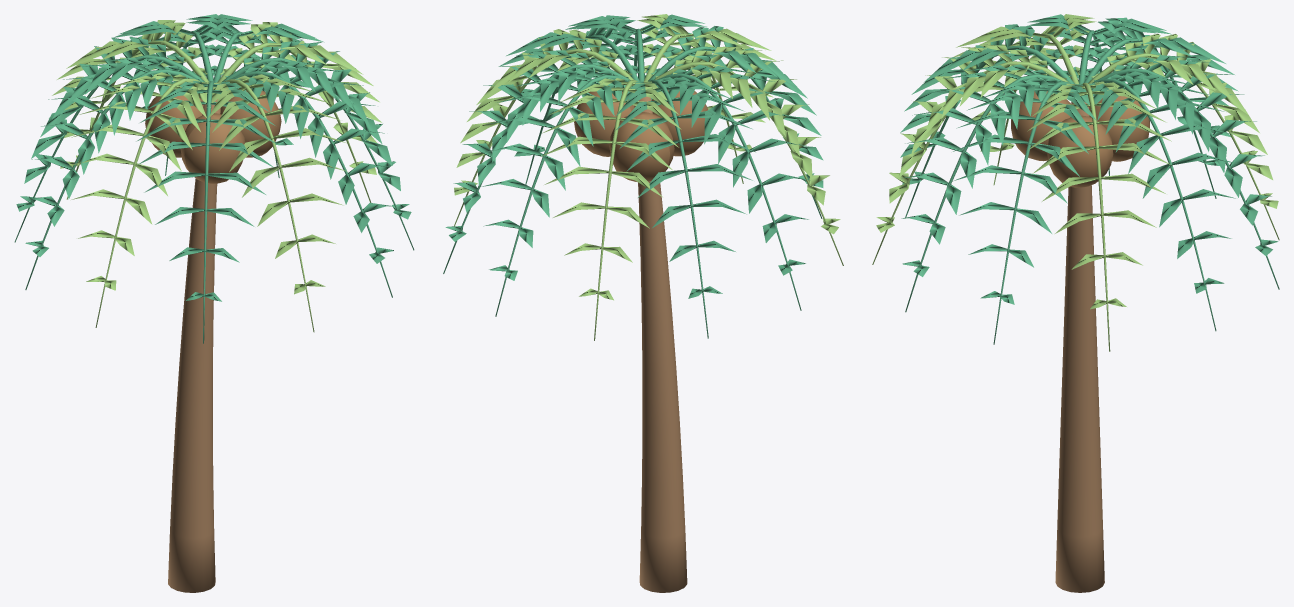
Rendered from palm_young.glb.
3 views of the same model, side by side, from view 1: azimuth 30°, elevation 25°; view 2: azimuth 150°, elevation 25°; view 3: azimuth 270°, elevation 25° (orthographic). The views are drawn at different scales.
Parts seen in each view (by area): view 1: coconut-palm-young; view 2: coconut-palm-young; view 3: coconut-palm-young.
Part boxes in pixels (left/top/right/bottom): coconut-palm-young: left=14, top=14, right=414, bottom=592; coconut-palm-young: left=443, top=14, right=843, bottom=592; coconut-palm-young: left=872, top=14, right=1279, bottom=592.
Size of the model in its own units: 1.95 by 2.79 by 1.93.
